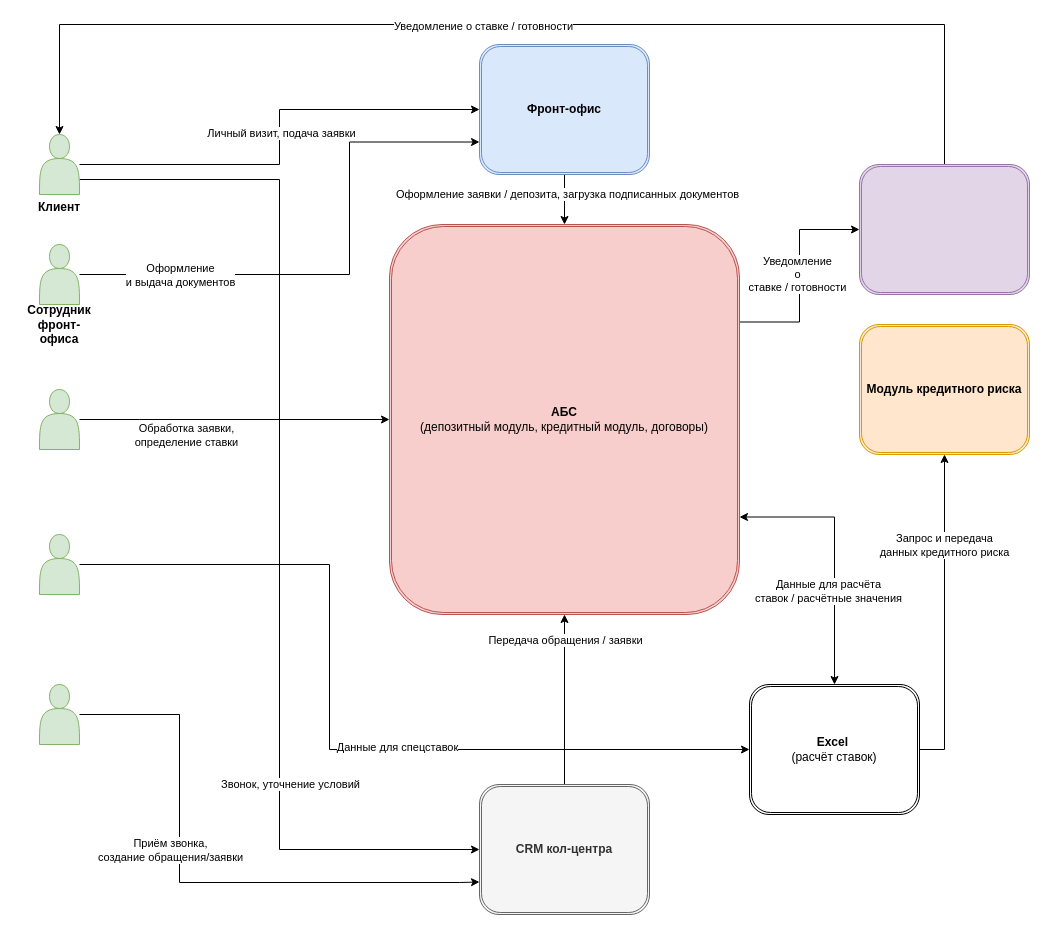
This 1047x932 diagram has some shape labels left out. Each missing label, with the centre of its shape:
Оператор кол-центра: (59,714)
СМС-шлюз: (944,229)
Сотрудник бэк-офиса депозитов: (59,419)
Сотрудник отдела кредитования: (59,564)
